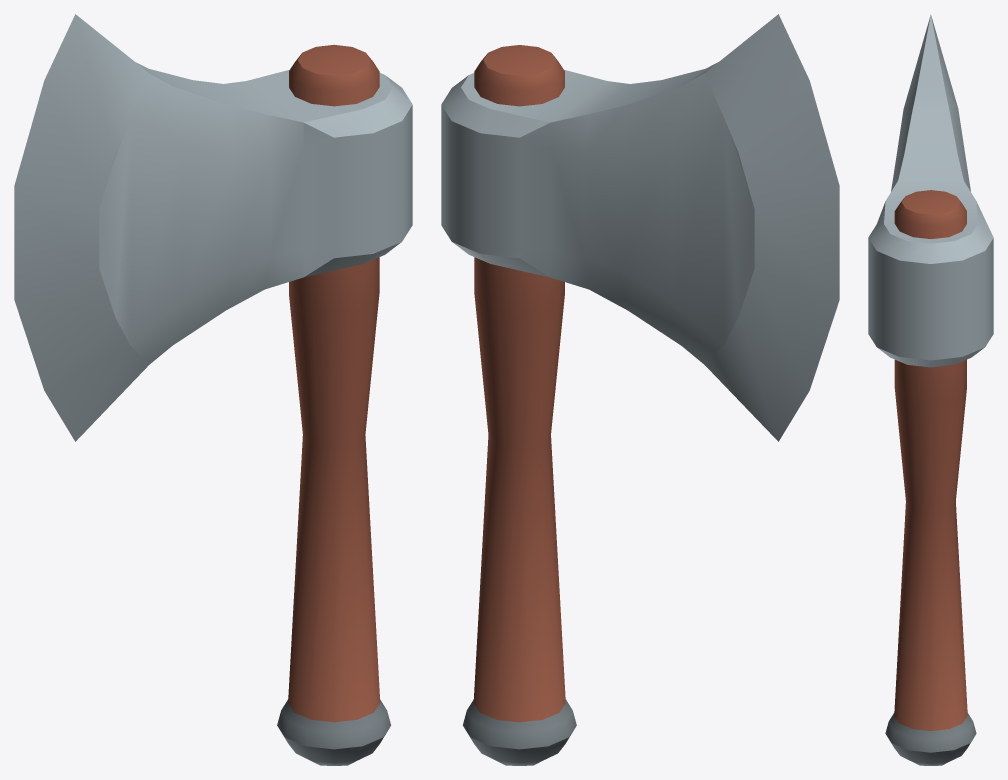
File: axe.fbx
The picture shows the model from 3 angles, left to right: view 1: azimuth 30°, elevation 25°; view 2: azimuth 150°, elevation 25°; view 3: azimuth 270°, elevation 25°; orthographic projection. The views are drawn at different scales.
Parts seen in each view (by area): view 1: axe_uncommon; view 2: axe_uncommon; view 3: axe_uncommon.
Part boxes in pixels (<box>): axe_uncommon: <box>14,14,412,765</box>; axe_uncommon: <box>441,14,839,765</box>; axe_uncommon: <box>868,14,993,765</box>.
Size of the model in its own units: 0.4692 by 0.9301 by 0.1645.
